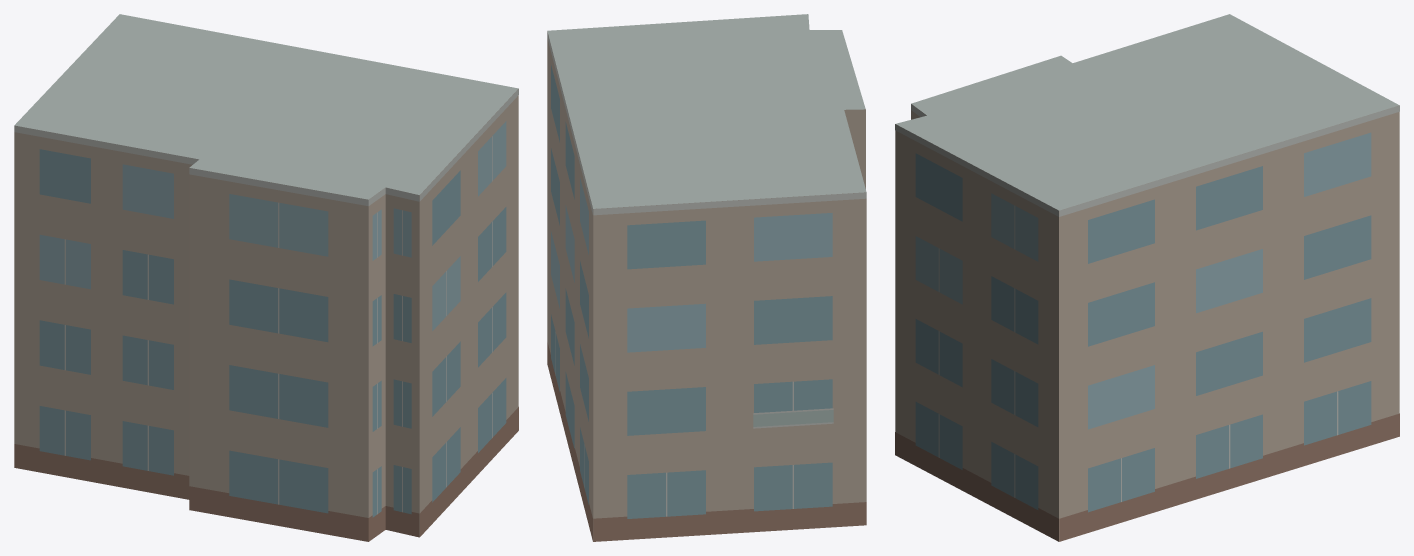
File: survey-upis-32810376.glb
3 views of the same model, side by side, from view 1: azimuth 30°, elevation 25°; view 2: azimuth 150°, elevation 25°; view 3: azimuth 270°, elevation 25° (orthographic). The views are drawn at different scales.
Parts seen in each view (by area): view 1: survey-upis-32810376.tmp; view 2: survey-upis-32810376.tmp; view 3: survey-upis-32810376.tmp.
Boxes of the visible parts, x1=… form: survey-upis-32810376.tmp: x1=14, y1=14, x2=518, y2=541; survey-upis-32810376.tmp: x1=547, y1=14, x2=866, y2=541; survey-upis-32810376.tmp: x1=895, y1=14, x2=1399, y2=541.
Size of the model in its own units: 16.11 by 12.65 by 17.47.
